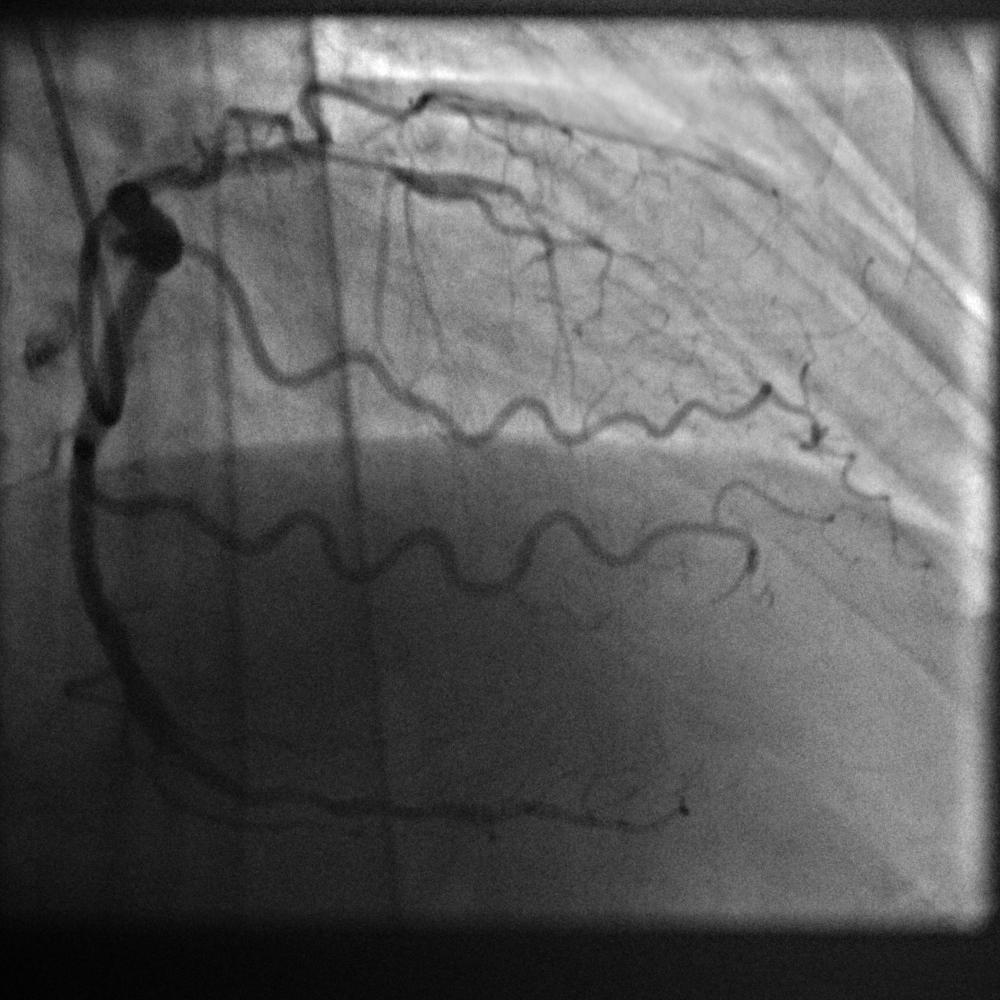Stenosis: (153, 716, 205, 777)
